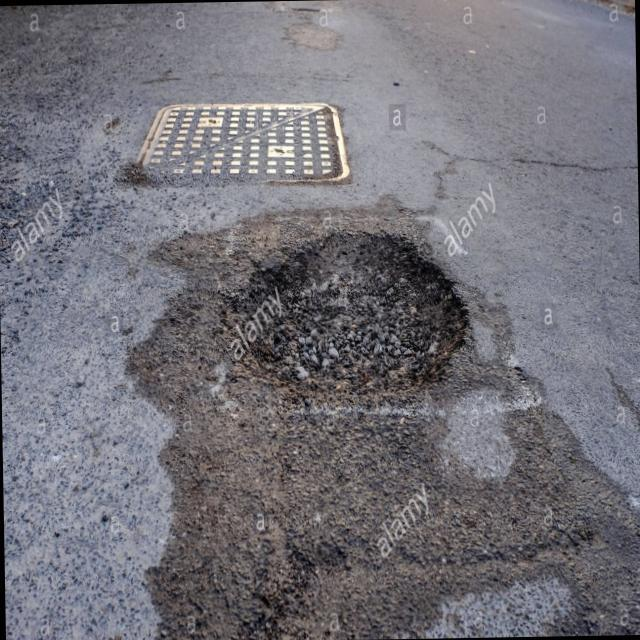Pothole: (149, 208, 473, 406)
